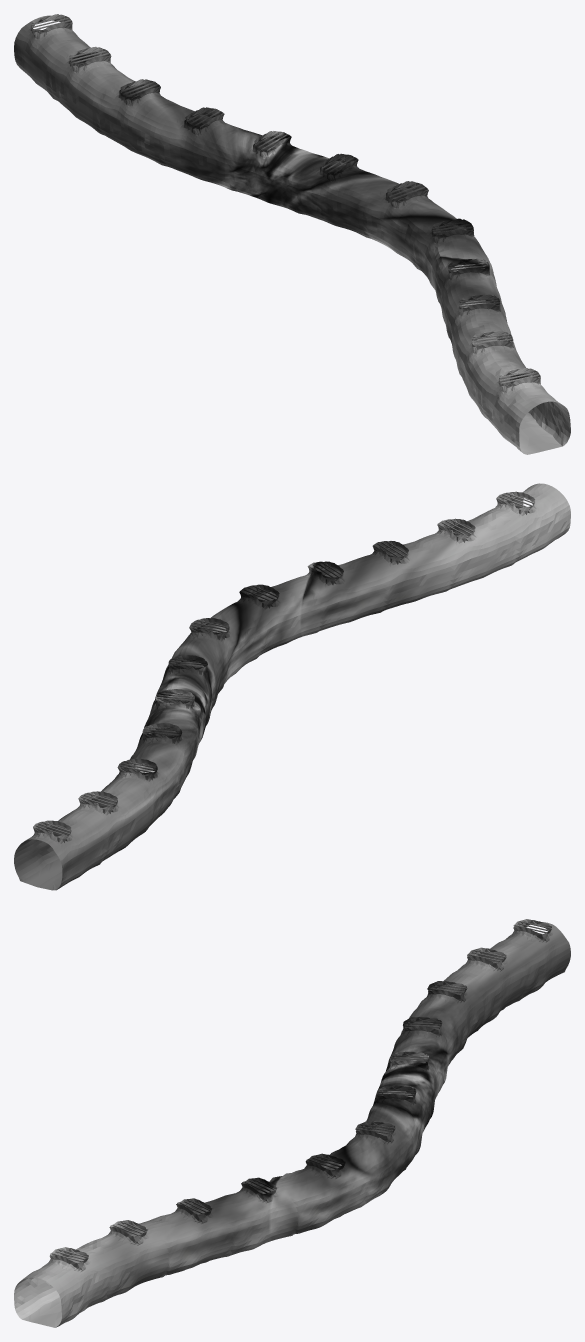
Rendered from tunnel7.obj.
3 renders of one model, top to bottom at view 1: azimuth 30°, elevation 25°; view 2: azimuth 150°, elevation 25°; view 3: azimuth 330°, elevation 25°, orthographic. The views are drawn at different scales.
Bounding box in the file's own units: 12.82 × 4.28 × 71.03.
1 material, 1 textured.
